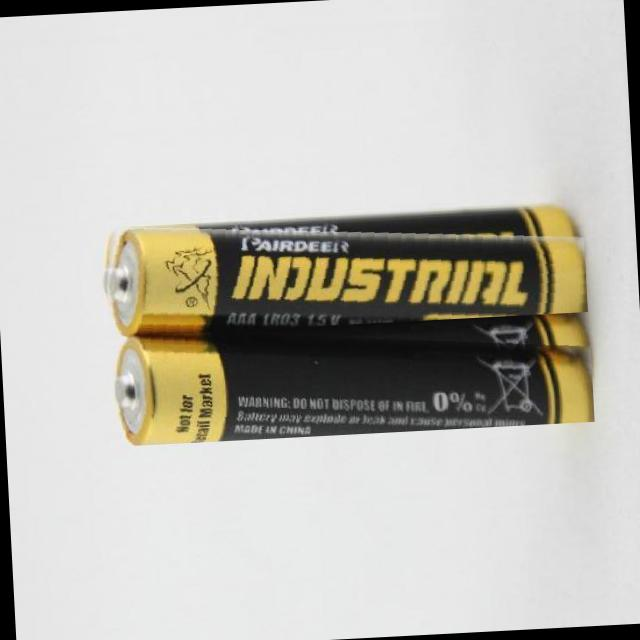Hazard: (109, 303, 595, 446), (99, 201, 588, 336)
